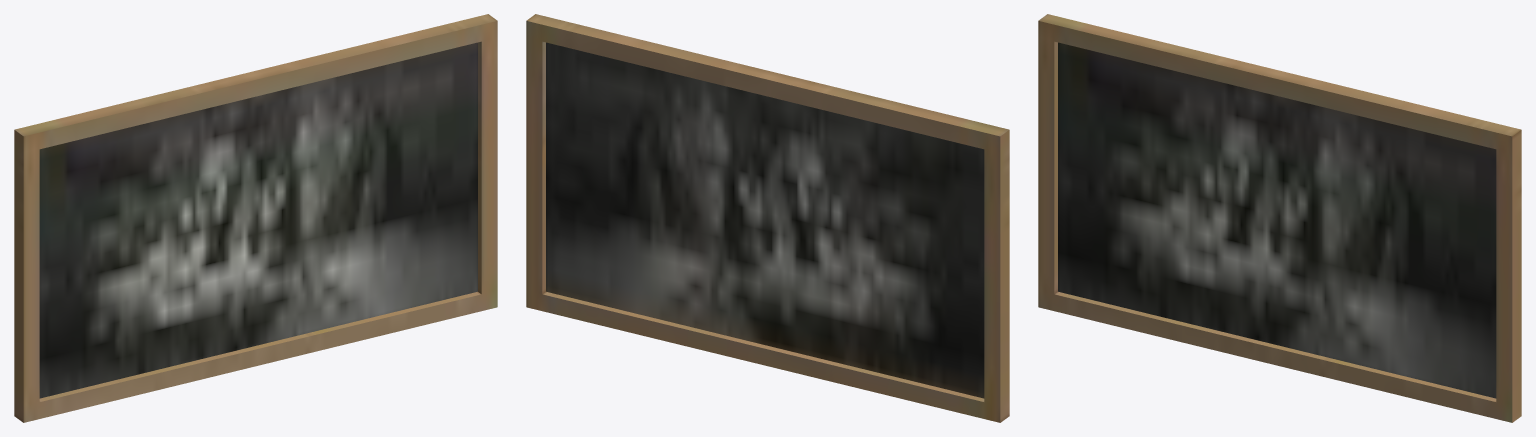
The model's file is paint3.glb.
3 renders of one model, left to right at view 1: azimuth 30°, elevation 25°; view 2: azimuth 150°, elevation 25°; view 3: azimuth 330°, elevation 25°, orthographic.
Visible parts, largest first — view 1: Cube.004_Baked_Cube.004_Bake1_baked_0; view 2: Cube.004_Baked_Cube.004_Bake1_baked_0; view 3: Cube.004_Baked_Cube.004_Bake1_baked_0.
Boxes of the visible parts, x1,y1,x2,y2 form: Cube.004_Baked_Cube.004_Bake1_baked_0: (14,14,497,422); Cube.004_Baked_Cube.004_Bake1_baked_0: (526,14,1009,422); Cube.004_Baked_Cube.004_Bake1_baked_0: (1038,14,1521,422).
Bounding box in the file's own units: 58.85 × 33.99 × 2.
Materials: 1 (1 with a texture image).
